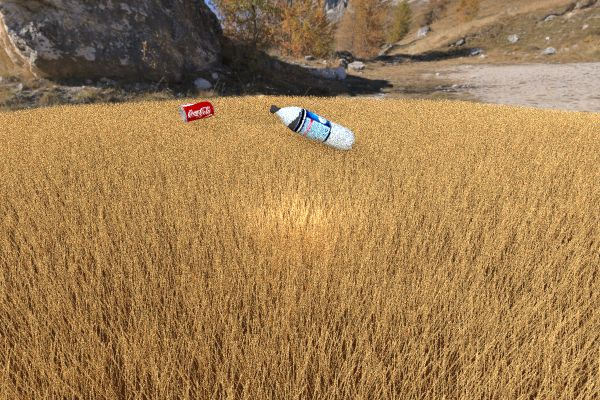Plastic Bottle: (116, 128, 196, 184), (272, 104, 358, 150), (305, 115, 364, 153)
